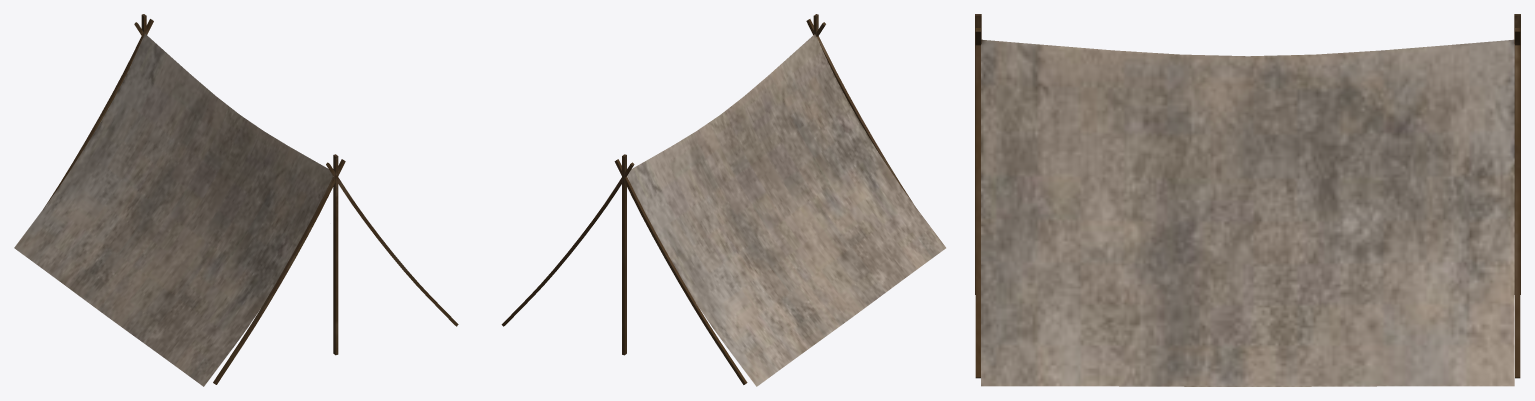
File: SM_tent_03.glb
3 views of the same model, side by side, from view 1: azimuth 30°, elevation 25°; view 2: azimuth 150°, elevation 25°; view 3: azimuth 270°, elevation 25° (orthographic). The views are drawn at different scales.
Parts seen in each view (by area): view 1: SM_tent_03; view 2: SM_tent_03; view 3: SM_tent_03.
Boxes of the visible parts, x1,y1,x2,y2 form: SM_tent_03: (14, 14, 458, 386); SM_tent_03: (501, 14, 945, 386); SM_tent_03: (975, 14, 1520, 386).
Bounding box in the file's own units: 2.78 × 2.03 × 3.56.
1 material, 1 textured.
